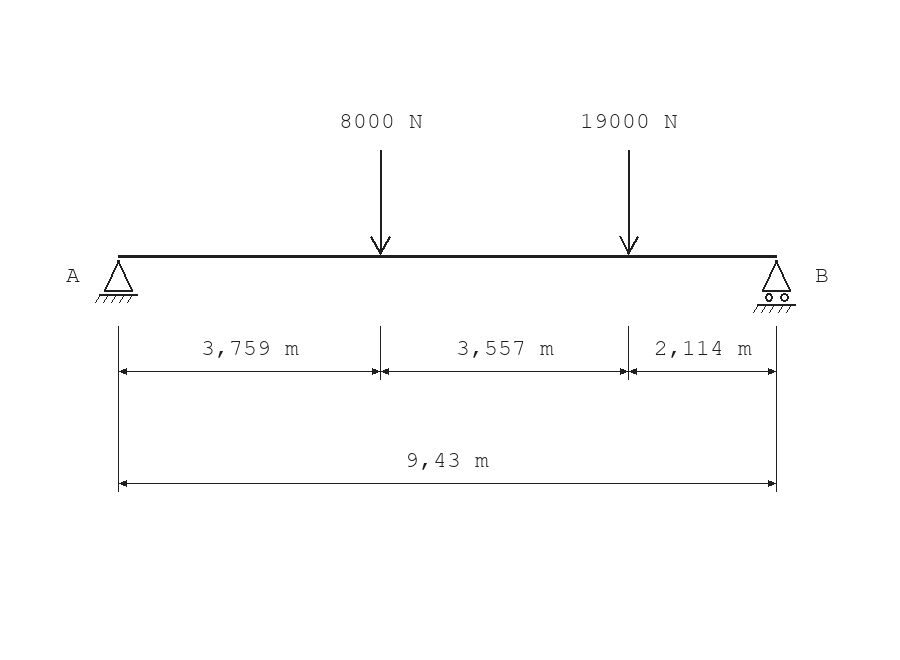pin_support: (95, 260, 138, 303)
point_load: (370, 150, 391, 255), (619, 150, 639, 255)
roller_support: (753, 260, 796, 313)
